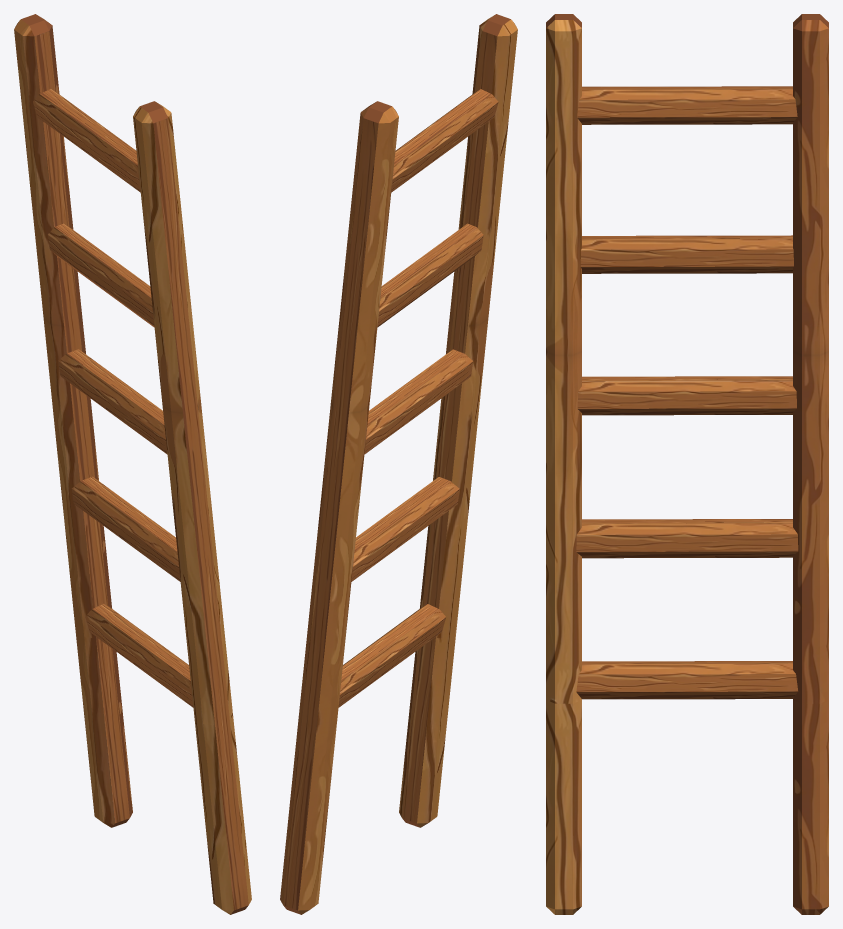
The model's file is ladder_fix.fbx.
3 views of the same model, side by side, from view 1: azimuth 30°, elevation 25°; view 2: azimuth 150°, elevation 25°; view 3: azimuth 270°, elevation 25° (orthographic). The views are drawn at different scales.
Parts seen in each view (by area): view 1: pasted__pasted__pasted__pasted__pasted__pCube1; view 2: pasted__pasted__pasted__pasted__pasted__pCube1; view 3: pasted__pasted__pasted__pasted__pasted__pCube1.
Part boxes in pixels (x1,y1,x2,y2): pasted__pasted__pasted__pasted__pasted__pCube1: (14, 14, 251, 914); pasted__pasted__pasted__pasted__pasted__pCube1: (280, 14, 517, 914); pasted__pasted__pasted__pasted__pasted__pCube1: (546, 14, 828, 914).
Size of the model in its own units: 1.97 by 14.03 by 4.21.
